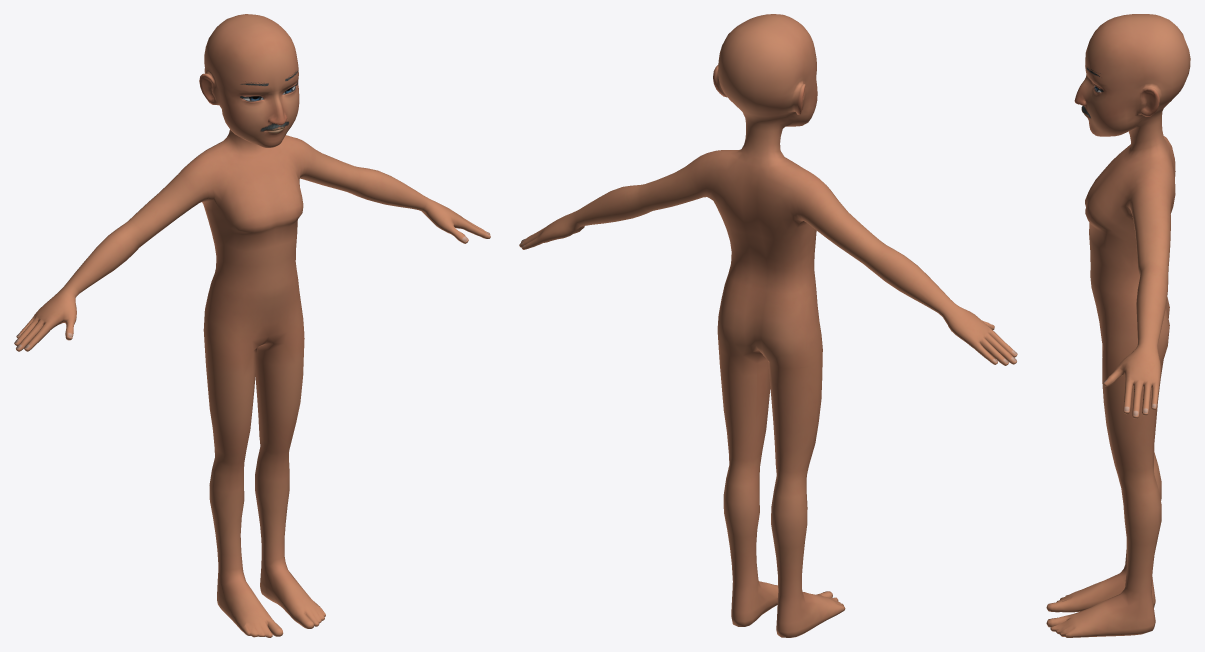
The model's file is frame_0028.glb.
The picture shows the model from 3 angles, left to right: view 1: azimuth 30°, elevation 25°; view 2: azimuth 150°, elevation 25°; view 3: azimuth 270°, elevation 25°; orthographic projection. The views are drawn at different scales.
Parts seen in each view (by area): view 1: frame_0028_head_geo; view 2: frame_0028_head_geo; view 3: frame_0028_head_geo.
Boxes of the visible parts, box(x1,y1,x2,y2) form: frame_0028_head_geo: box(14, 14, 490, 637); frame_0028_head_geo: box(519, 14, 1017, 637); frame_0028_head_geo: box(1046, 14, 1190, 637).
Bounding box in the file's own units: 1.28 × 1.5 × 0.3253.
Materials: 3 (3 with a texture image).
